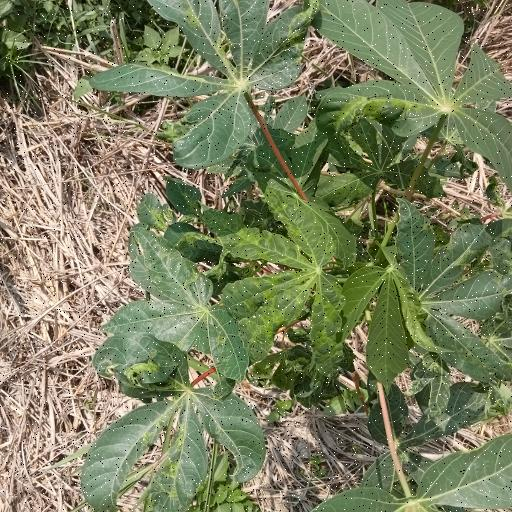Cassava_Mosaic: (108, 3, 327, 162), (204, 172, 360, 383), (96, 336, 225, 512)
